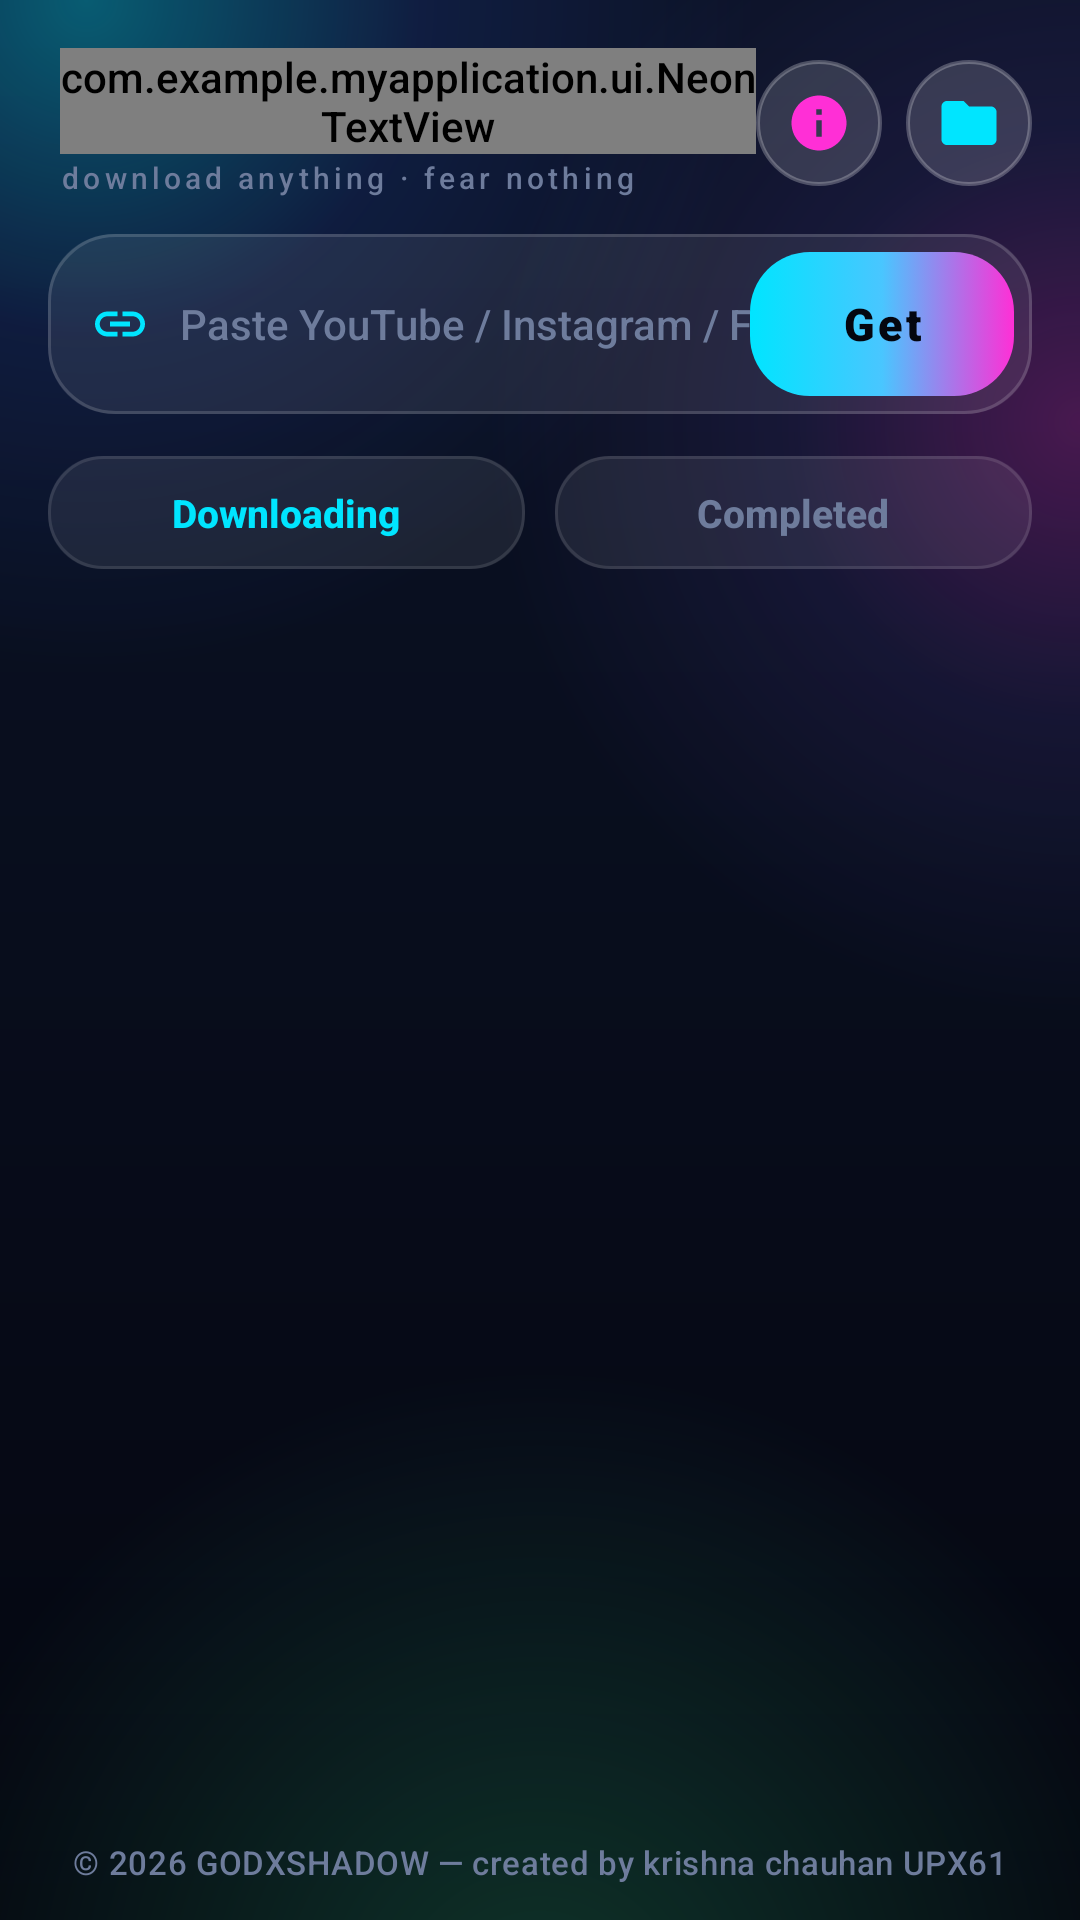

Point at icon controls on the screen. Image size 1080px x 1920px, points as point (x, y).
folder: point (969, 123)
info: point (819, 123)
